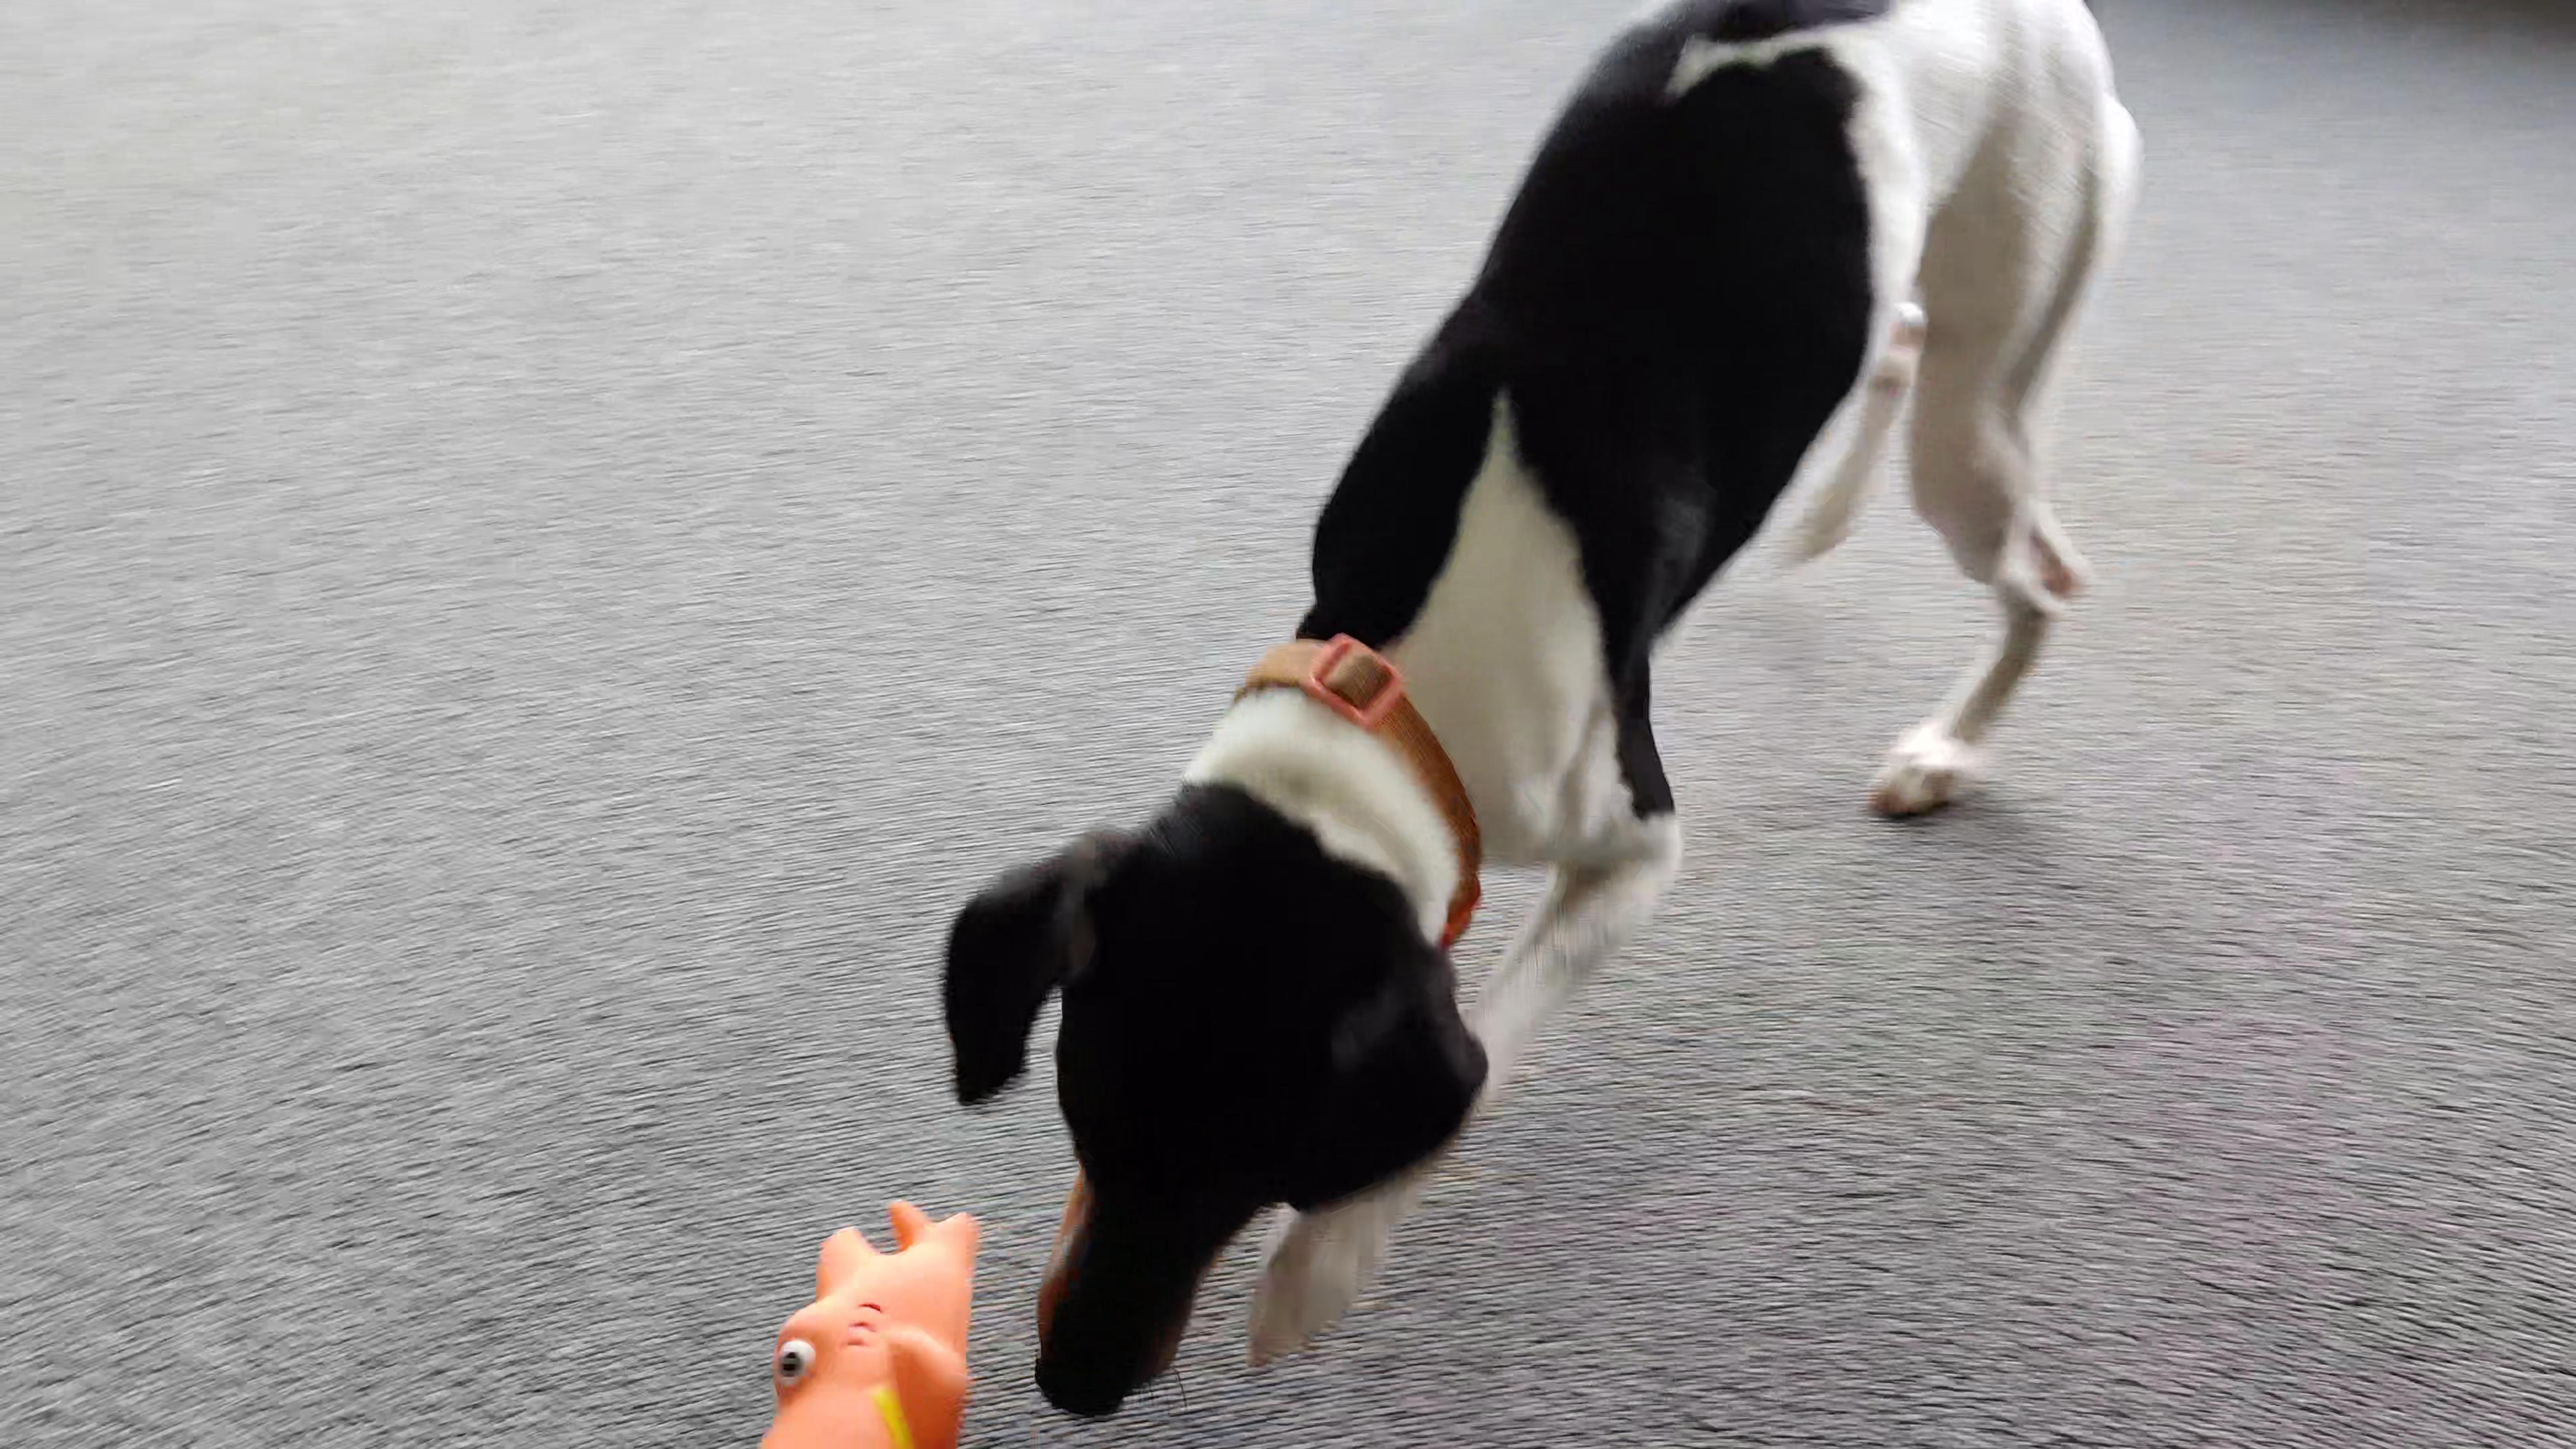Dog: (932, 0, 2157, 1422)
